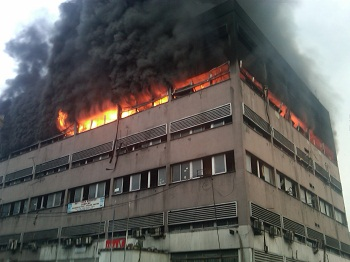Fire: (56, 104, 136, 136), (165, 70, 231, 95)
